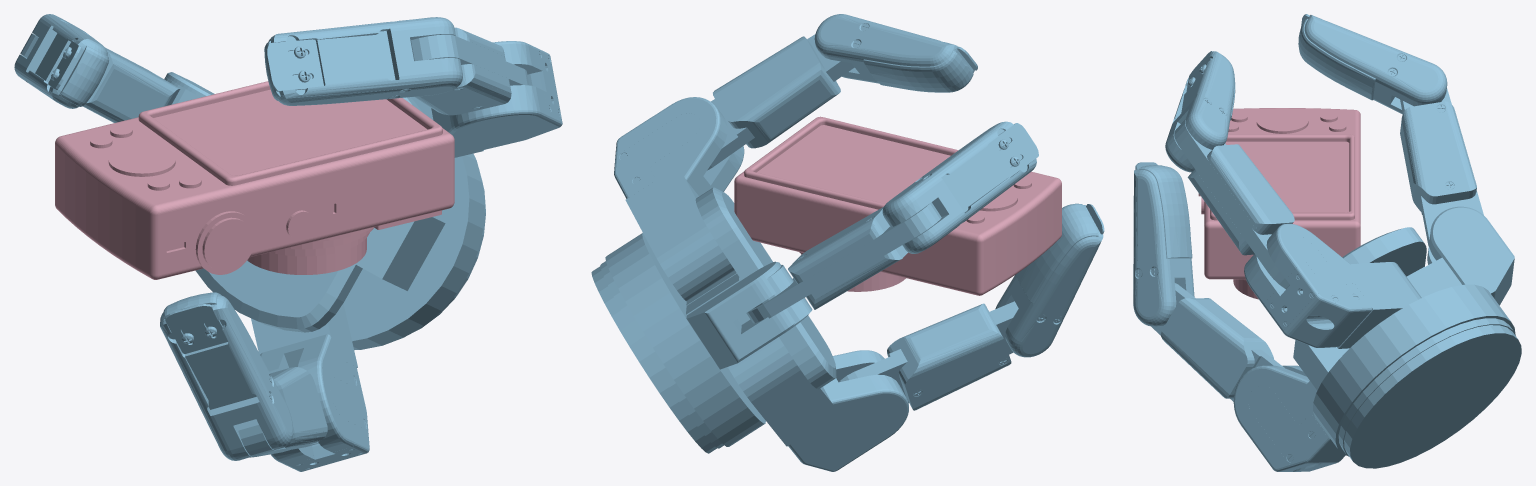
3 views of the same model, side by side, from view 1: azimuth 30°, elevation 25°; view 2: azimuth 150°, elevation 25°; view 3: azimuth 270°, elevation 25° (orthographic). The views are drawn at different scales.
Parts seen in each view (by area): view 1: world, camera.stl; view 2: world, camera.stl; view 3: world, camera.stl.
Part boxes in pixels (bbox=[...]): world: bbox=[14, 14, 562, 471]; camera.stl: bbox=[55, 81, 454, 279]; world: bbox=[591, 14, 1104, 471]; camera.stl: bbox=[734, 116, 1061, 295]; world: bbox=[1133, 14, 1521, 471]; camera.stl: bbox=[1198, 108, 1360, 299].
Size of the model in its own units: 0.1872 by 0.1768 by 0.1606.
